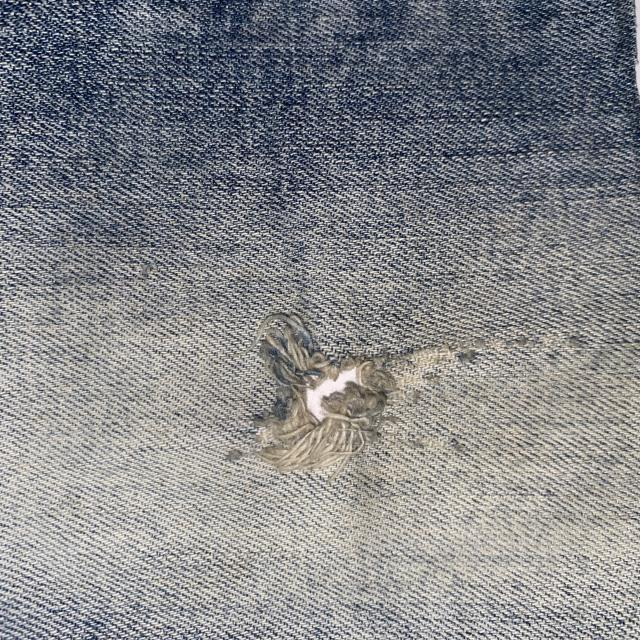Hole: (232, 304, 402, 480)
